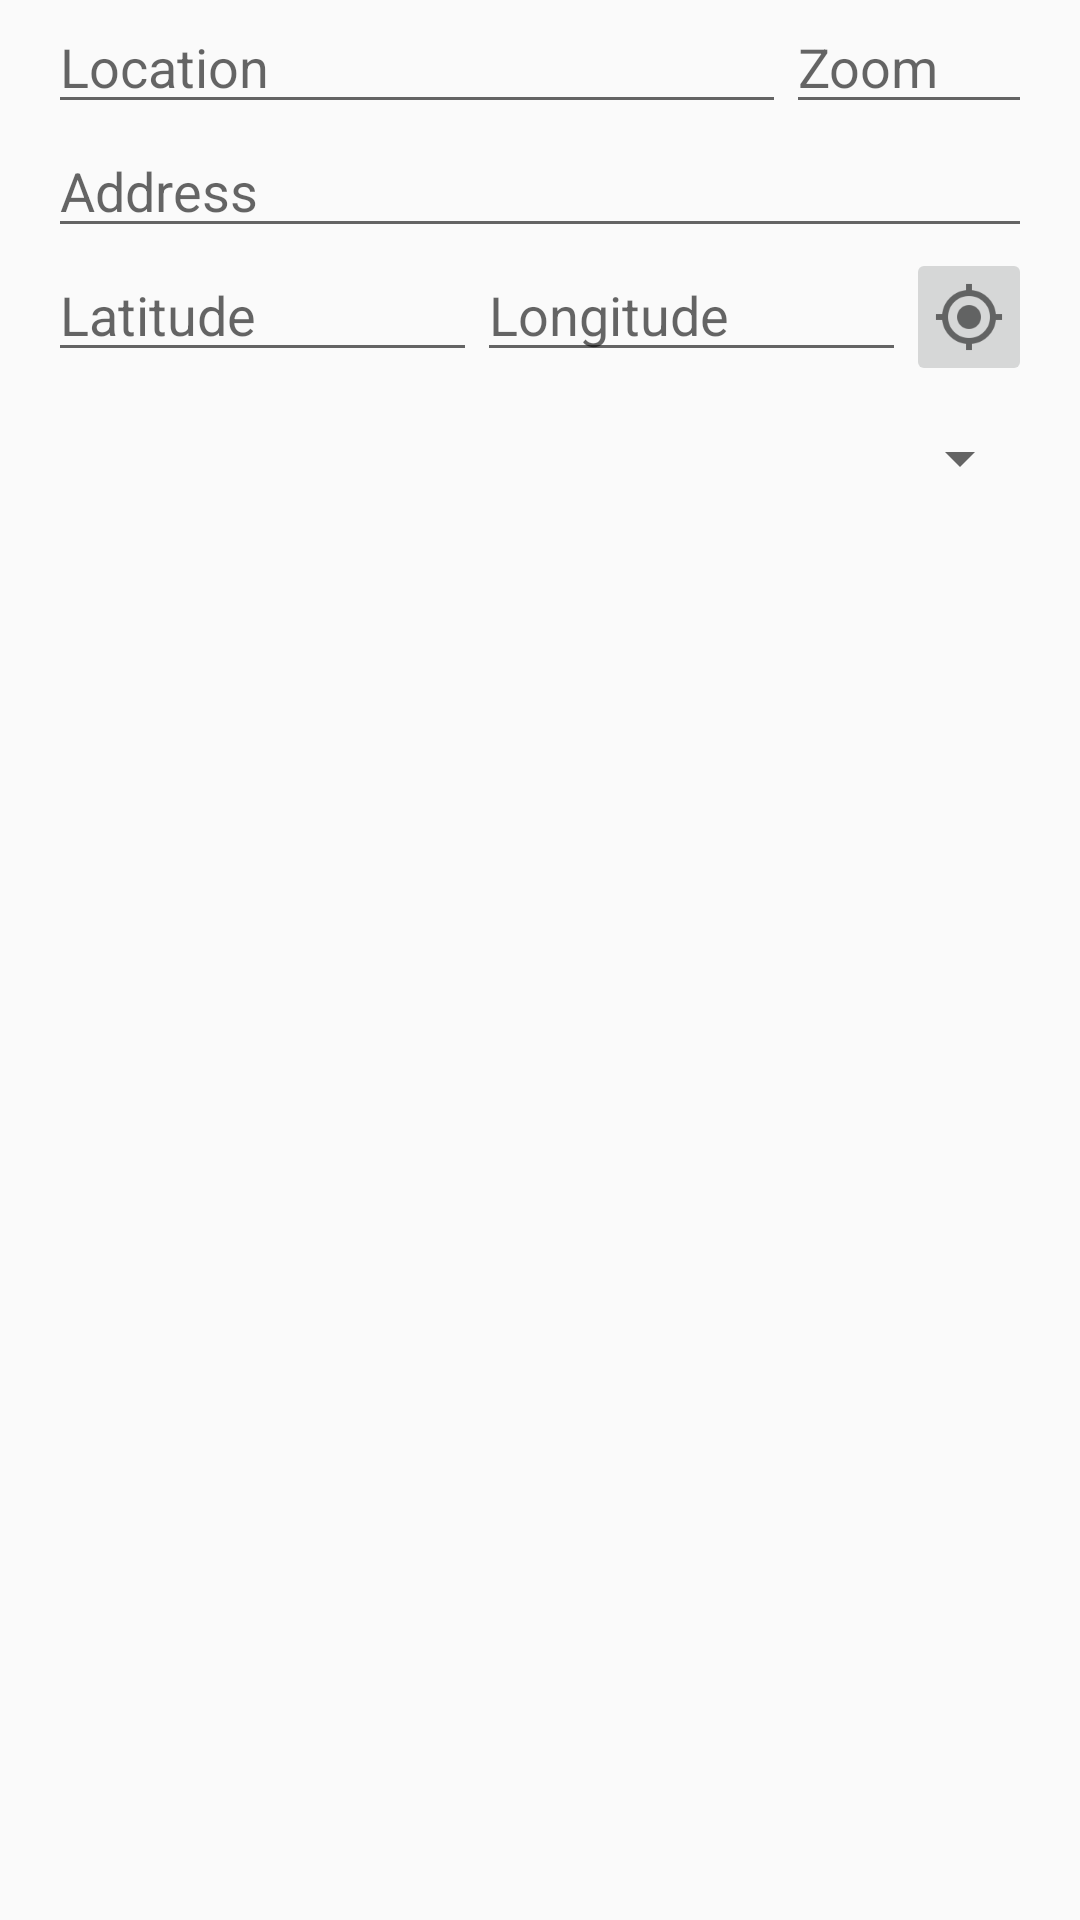

Named icons in this screenshot (1080px x 1920px) and their centers, [x,y]:
Map position: [969,317]
